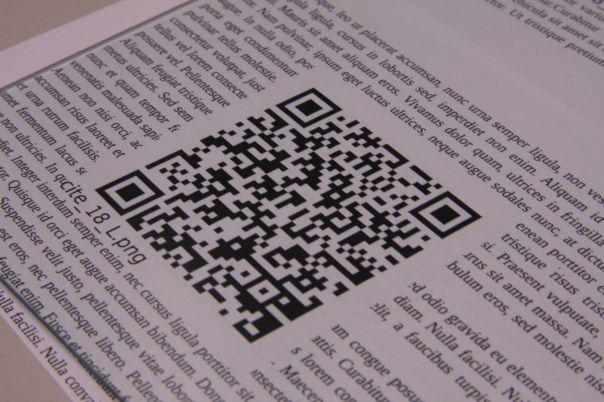Finder pattern: (409, 189, 483, 239), (97, 171, 166, 214), (277, 86, 344, 126)
